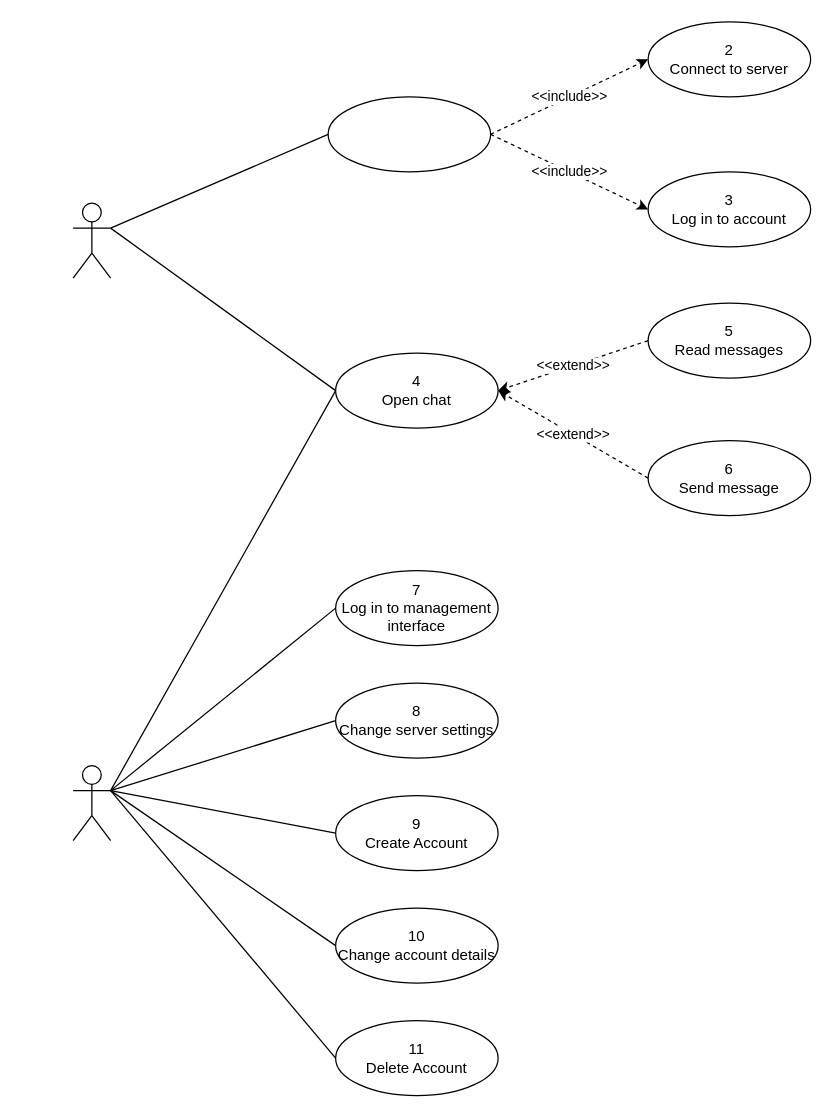
Image size: 833x1118. Some labels were removed from this diagram. The shapes that lost their labels are listed below. From the top down, each one's box as (x1, y1, x2, y2) in pixels, then its label:
(327, 96, 491, 172): 1 Log in to server
(72, 202, 111, 278): User
(72, 764, 111, 841): System Administrator
